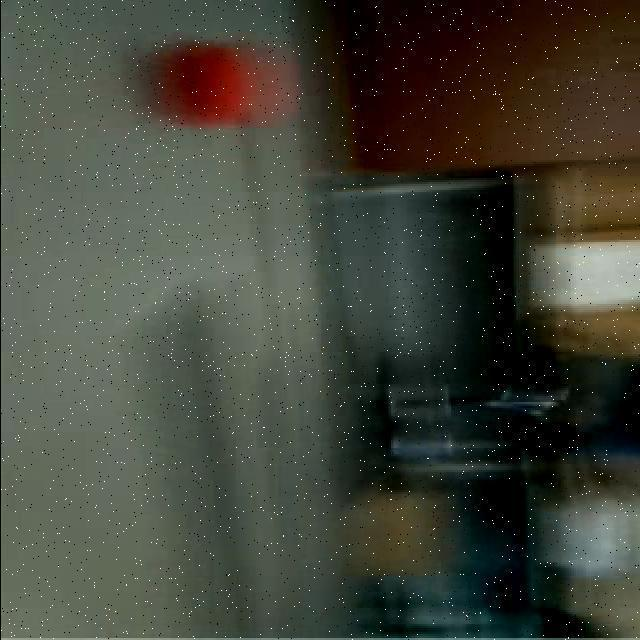ping-pong-ball: (150, 42, 282, 126)
